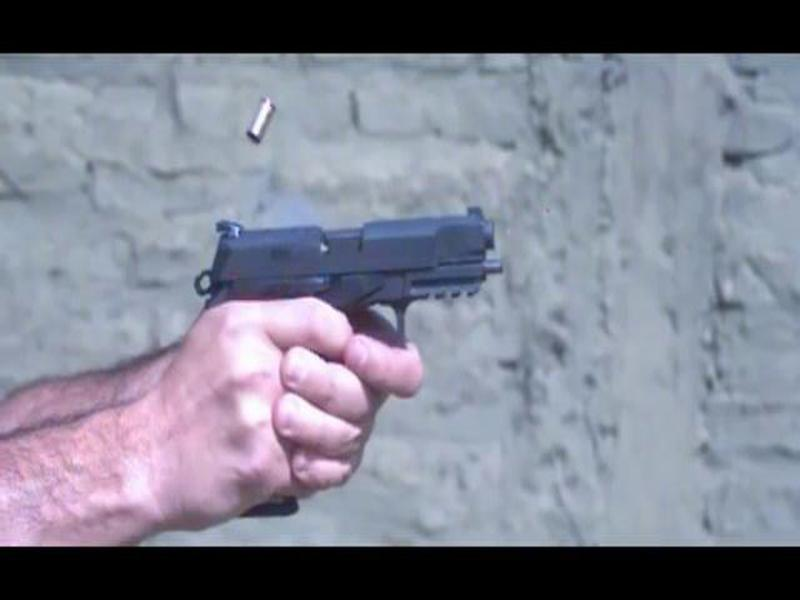Pistola: (192, 197, 512, 419)
